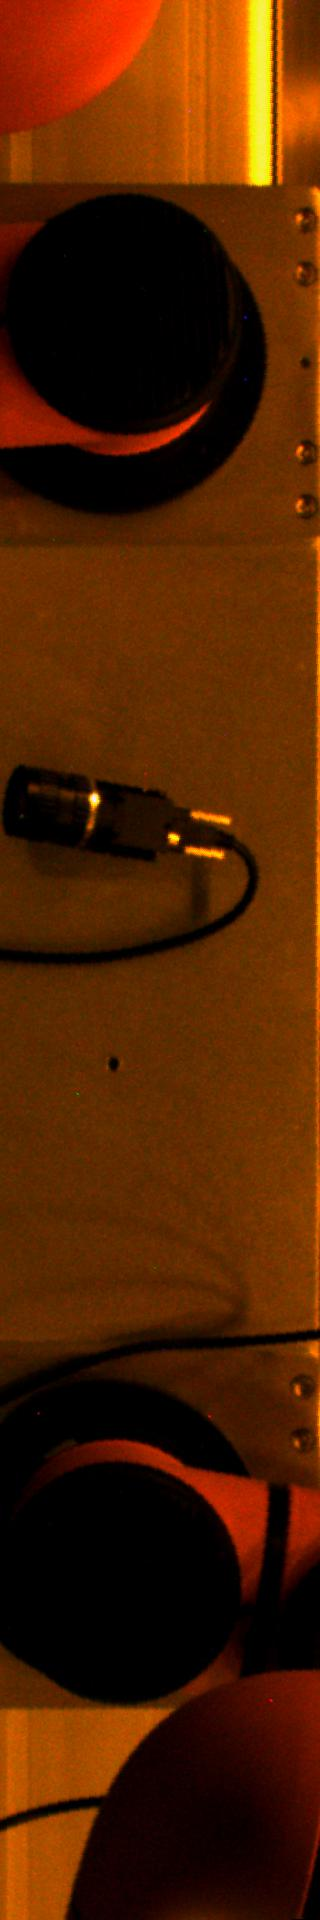keyPoint_2: (98, 1048, 128, 1078)
